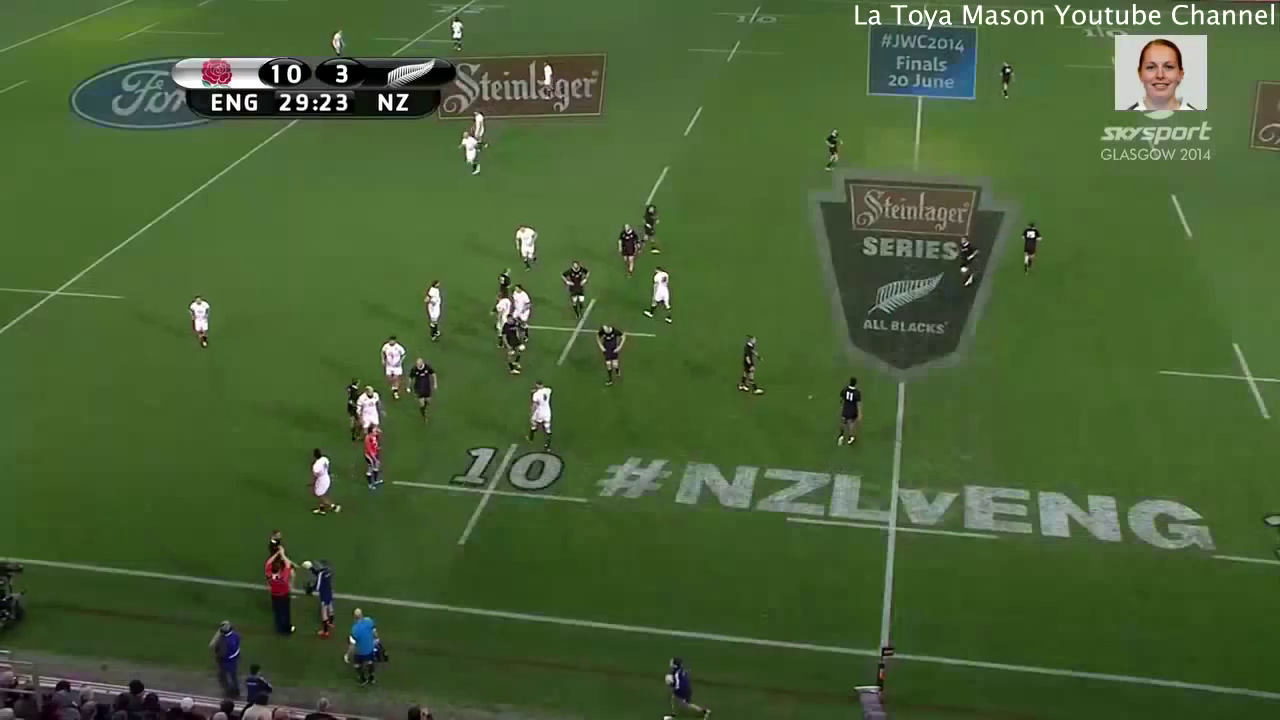10_metre: (377, 436, 594, 555), (505, 294, 663, 371), (1144, 337, 1280, 424), (683, 35, 783, 69), (693, 1, 797, 28)
ball: (300, 555, 315, 571)
player: (343, 601, 388, 691), (265, 542, 303, 644), (298, 442, 345, 523), (368, 332, 413, 416), (725, 326, 773, 402), (590, 312, 634, 388), (519, 382, 565, 451), (408, 353, 449, 430), (828, 373, 865, 450), (633, 193, 669, 265), (308, 558, 340, 638), (641, 263, 679, 328), (557, 255, 594, 321), (354, 418, 383, 497), (509, 216, 544, 281), (181, 293, 220, 350), (419, 276, 449, 350), (331, 372, 361, 443), (612, 219, 644, 282), (1013, 217, 1046, 278), (345, 382, 386, 431), (465, 105, 493, 158), (457, 125, 482, 181), (819, 124, 845, 177), (442, 15, 469, 62), (261, 525, 290, 567), (533, 57, 560, 99), (996, 56, 1016, 106), (325, 25, 350, 64)
